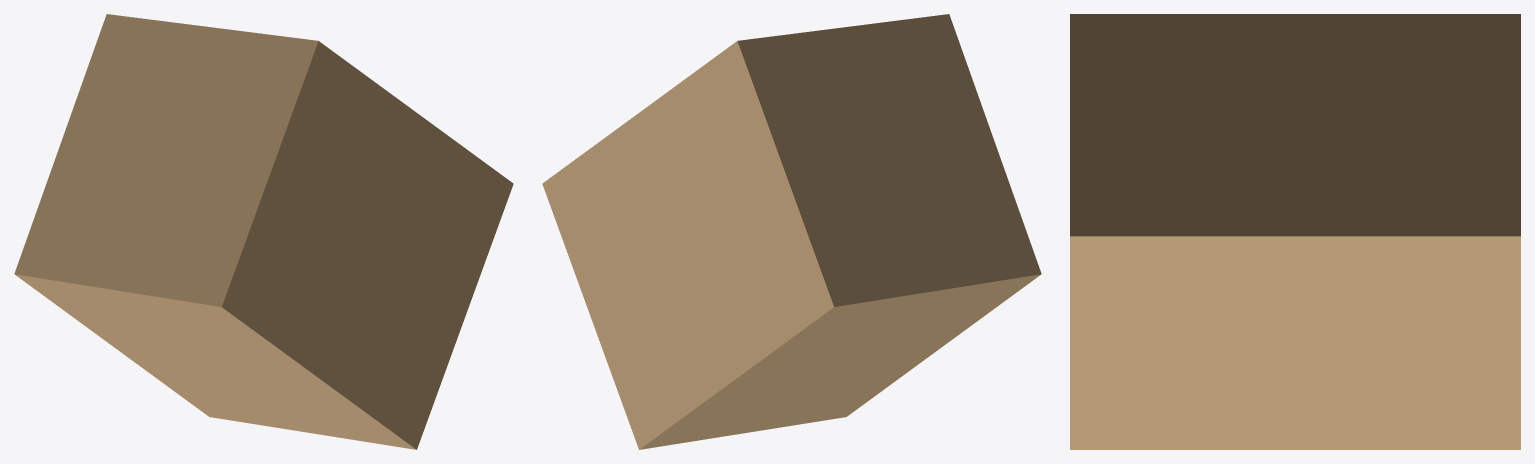
3 renders of one model, left to right at view 1: azimuth 30°, elevation 25°; view 2: azimuth 150°, elevation 25°; view 3: azimuth 270°, elevation 25°, orthographic. The views are drawn at different scales.
Parts seen in each view (by area): view 1: 0_0_1_3_1_2_1_0_0_2; view 2: 0_0_1_3_1_2_1_0_0_2; view 3: 0_0_1_3_1_2_1_0_0_2.
Boxes of the visible parts, x1,y1,x2,y2 form: 0_0_1_3_1_2_1_0_0_2: (14,14,513,449); 0_0_1_3_1_2_1_0_0_2: (542,14,1041,449); 0_0_1_3_1_2_1_0_0_2: (1070,14,1520,449).
Size of the model in its own units: 21.61 by 21.8 by 24.
